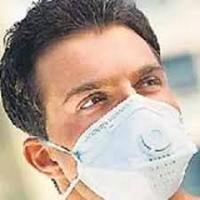flu mask: (60, 93, 197, 200)
